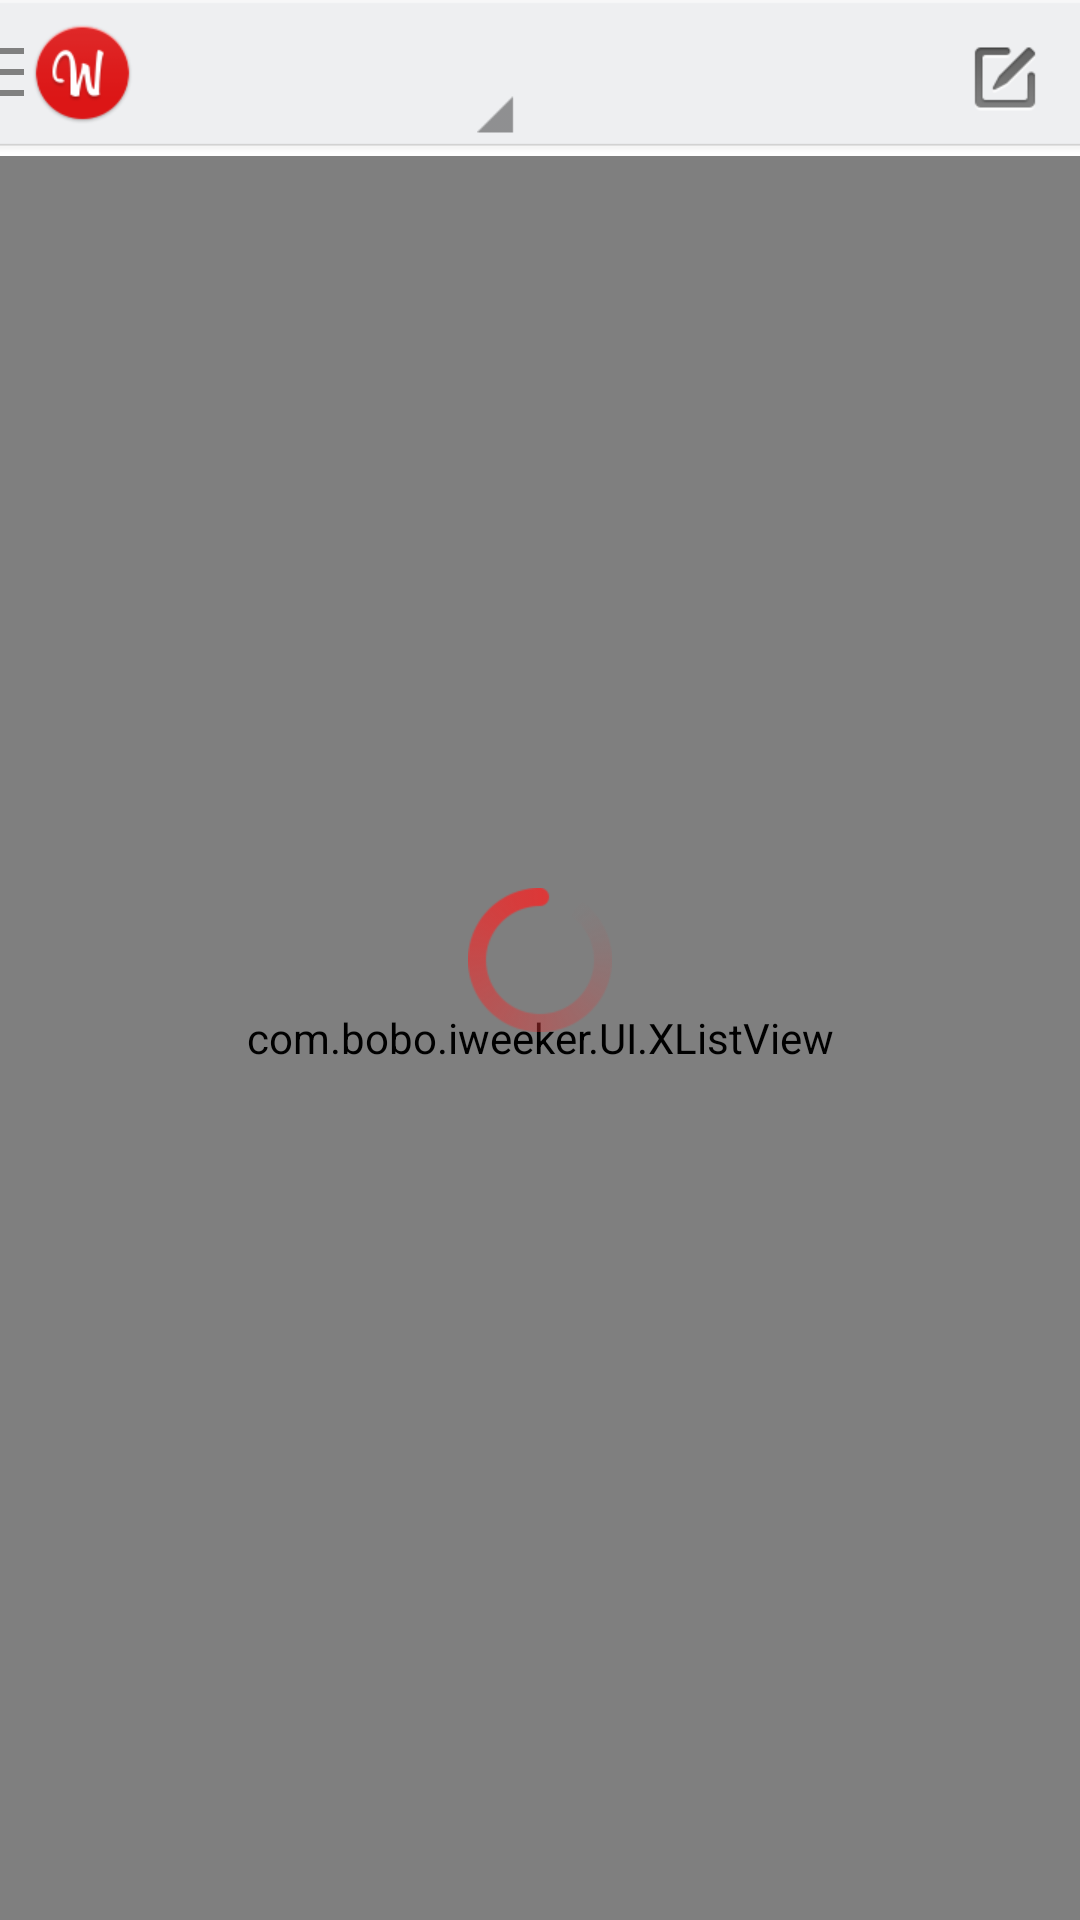

Icons on this 1080 × 1920 Android screen, each with its box as [x1,y1,x2,y2]:
loading: [468,888,606,1032]
navigationbar compose: [974,47,1036,108]
